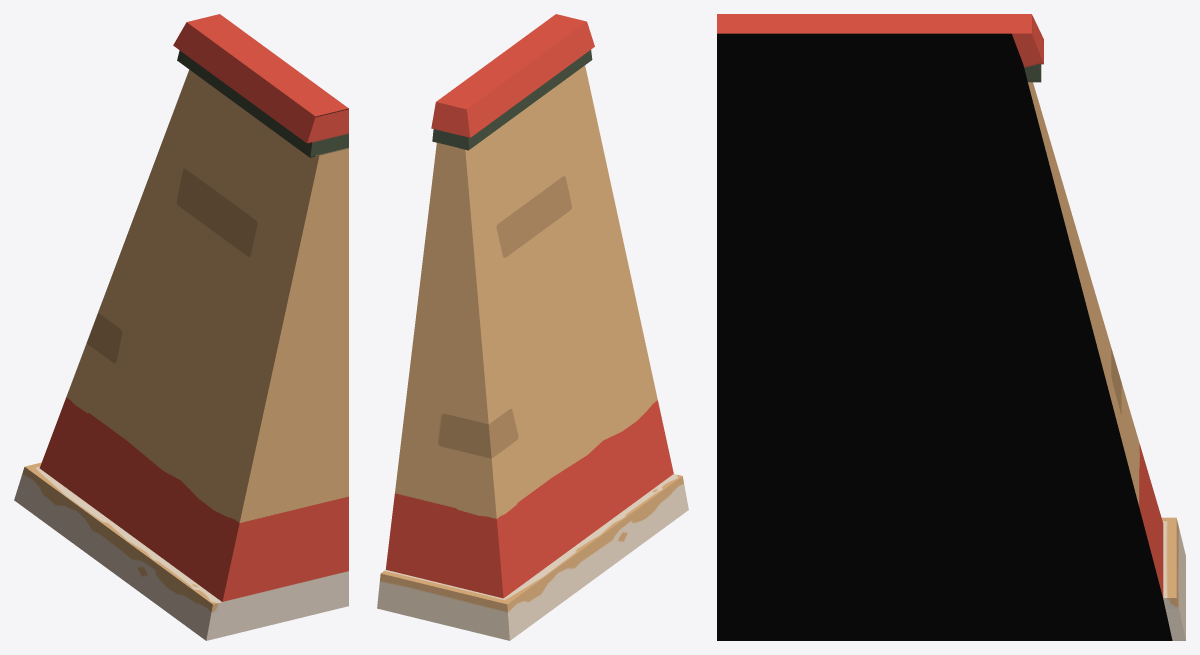
File: wallEndR.fbx
3 views of the same model, side by side, from view 1: azimuth 30°, elevation 25°; view 2: azimuth 150°, elevation 25°; view 3: azimuth 270°, elevation 25° (orthographic). The views are drawn at different scales.
Visible parts, largest first — view 1: WalLEndR; view 2: WalLEndR; view 3: WalLEndR.
Part boxes in pixels (x1,y1,x2,y2): WalLEndR: (14,14,348,640); WalLEndR: (377,14,688,640); WalLEndR: (717,14,1185,640).
Bounding box in the file's own units: 1.5 × 5 × 3.5.
